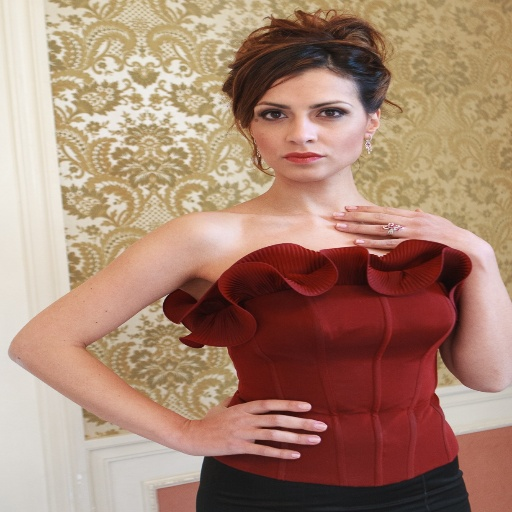hand: (178, 401, 344, 463), (332, 203, 471, 250)
